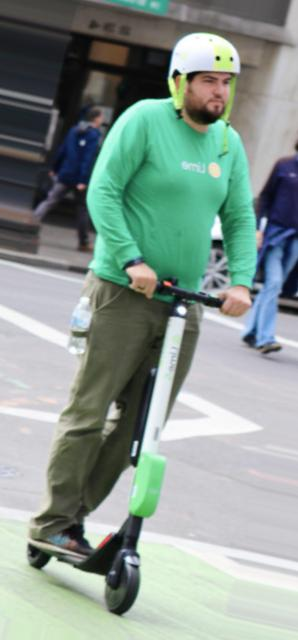scooter: (25, 273, 251, 613)
with helmet: (165, 30, 239, 124)
